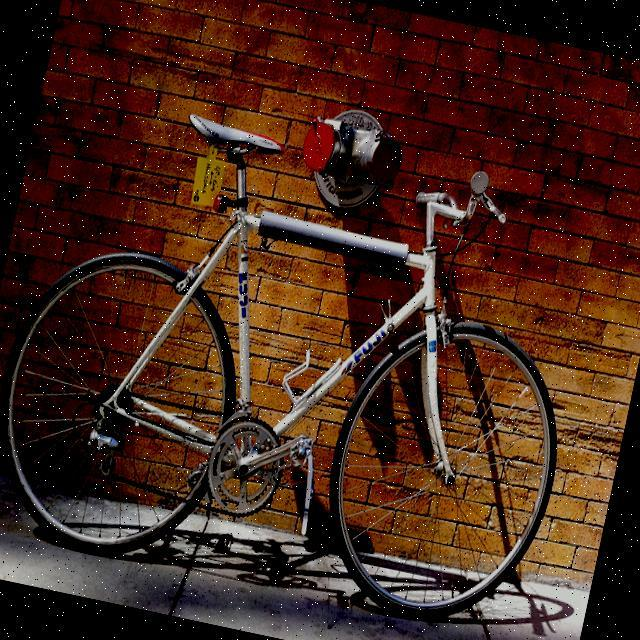fire_hydrant: (292, 98, 410, 218)
